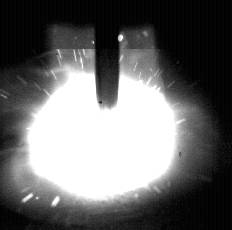arame: (97, 0, 120, 109)
poca: (27, 0, 177, 230)
